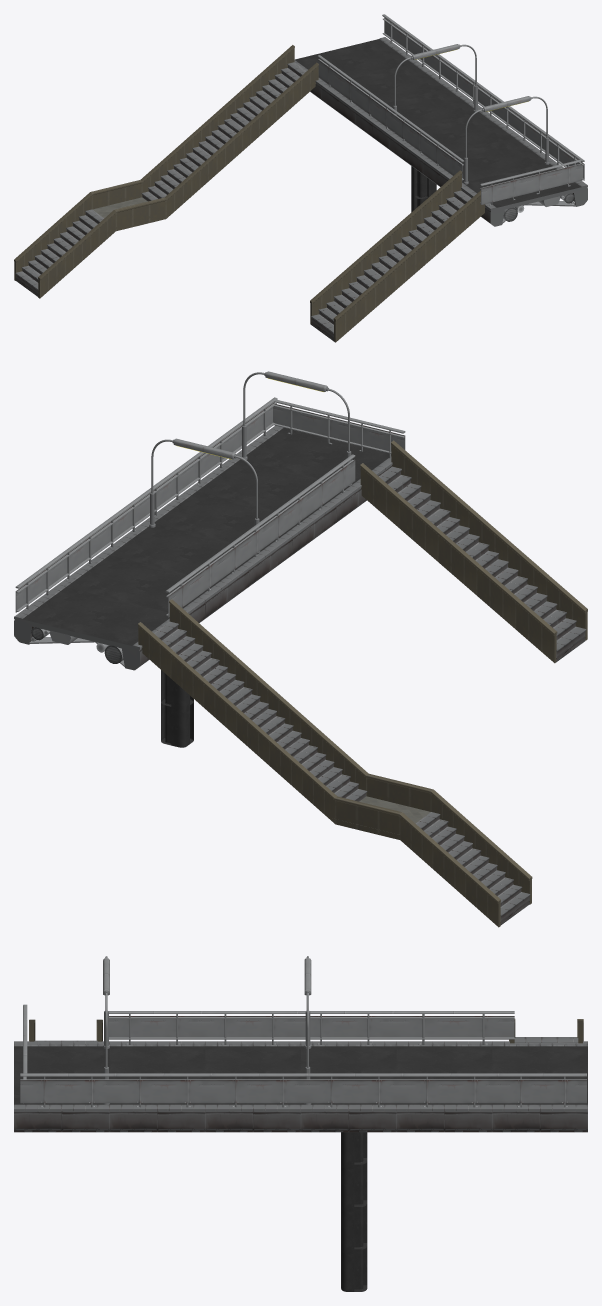
Rendered from Stairs.gltf.
3 renders of one model, top to bottom at view 1: azimuth 30°, elevation 25°; view 2: azimuth 150°, elevation 25°; view 3: azimuth 270°, elevation 25°, orthographic. The views are drawn at different scales.
Parts seen in each view (by area): view 1: SM_Stairs_Concrete, SM_Bridge_Walkway__4_, SM_Bridge_Walkway__2_, SM_Bridge_Walkway__3_, SM_Bridge_Walkway__1_, SM_Bridge_Walkway, SM_Bridge_Walkway__5_, SM_Bridge_Walkway_Railing_1, SM_Stairs_ConcreteBorder__21__1, SM_Bridge_Walkway_Railing__18_, SM_Stairs_ConcreteBorder__21_, SM_Bridge_Walkway_Railing_2 (+39 smaller); view 2: SM_Stairs_Concrete, SM_Bridge_Walkway__5_, SM_Bridge_Walkway__4_, SM_Bridge_Walkway__3_, SM_Bridge_Walkway__1_, SM_Bridge_Walkway__2_, SM_Bridge_Walkway, SM_Bridge_Walkway_Railing_1, SM_Stairs_ConcreteBorder__21_, SM_Bridge_Walkway_Railing__18_, SM_Stairs_ConcreteBorder__21__1, SM_Stairs_ConcreteBorder_Angled__12_ (+40 smaller); view 3: SM_Bridge_Walkway__4_, SM_Bridge_Walkway__1_, SM_Bridge_Walkway__2_, SM_Bridge_Walkway, SM_Bridge_Walkway__5_, SM_Bridge_Walkway__3_, SM_Bridge_Walkway_Railing__18_, SM_Bridge_Walkway_Railing__11_, SM_Bridge_Walkway_Railing__12_, SM_Bridge_Walkway_Railing, SM_Bridge_Walkway_Railing__13_, SM_Bridge_Walkway_Railing__10_ (+14 smaller).
Boxes of the visible parts, x1,y1,x2,y2 form: SM_Stairs_Concrete: (15, 62, 471, 341); SM_Bridge_Walkway__4_: (321, 61, 452, 124); SM_Bridge_Walkway__2_: (389, 111, 519, 174); SM_Bridge_Walkway__3_: (355, 86, 483, 149); SM_Bridge_Walkway__1_: (423, 136, 553, 186); SM_Bridge_Walkway: (461, 160, 587, 226); SM_Bridge_Walkway__5_: (294, 37, 418, 99); SM_Bridge_Walkway_Railing_1: (524, 159, 583, 194); SM_Stairs_ConcreteBorder__21__1: (114, 197, 166, 231); SM_Bridge_Walkway_Railing__18_: (317, 55, 362, 106); SM_Stairs_ConcreteBorder__21_: (90, 180, 142, 209); SM_Bridge_Walkway_Railing_2: (480, 173, 524, 205); SM_Stairs_Concrete: (154, 466, 586, 925); SM_Bridge_Walkway__5_: (14, 585, 169, 670); SM_Bridge_Walkway__4_: (58, 552, 227, 622); SM_Bridge_Walkway__3_: (102, 521, 270, 602); SM_Bridge_Walkway__1_: (189, 458, 358, 538); SM_Bridge_Walkway__2_: (145, 489, 314, 570); SM_Bridge_Walkway: (236, 425, 392, 506); SM_Bridge_Walkway_Railing_1: (273, 399, 347, 444); SM_Stairs_ConcreteBorder__21_: (335, 796, 401, 839); SM_Bridge_Walkway_Railing__18_: (165, 550, 224, 617); SM_Stairs_ConcreteBorder__21__1: (366, 773, 433, 811); SM_Stairs_ConcreteBorder_Angled__12_: (515, 598, 557, 663); SM_Bridge_Walkway__4_: (396, 1041, 492, 1132); SM_Bridge_Walkway__1_: (109, 1041, 205, 1132); SM_Bridge_Walkway__2_: (205, 1041, 300, 1132); SM_Bridge_Walkway: (14, 1041, 109, 1132); SM_Bridge_Walkway__5_: (492, 1041, 587, 1132); SM_Bridge_Walkway__3_: (301, 1041, 396, 1132); SM_Bridge_Walkway_Railing__18_: (392, 1011, 514, 1044); SM_Bridge_Walkway_Railing__11_: (211, 1073, 307, 1107); SM_Bridge_Walkway_Railing__12_: (307, 1073, 402, 1107); SM_Bridge_Walkway_Railing: (20, 1073, 115, 1107); SM_Bridge_Walkway_Railing__13_: (403, 1073, 498, 1107); SM_Bridge_Walkway_Railing__10_: (116, 1073, 211, 1107).
Size of the model in its own units: 19.16 by 10.89 by 18.
